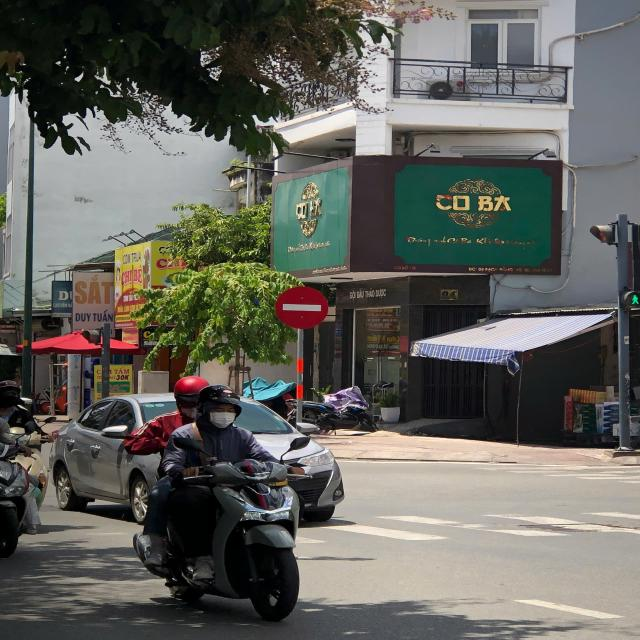Bien bao cam di nguoc chieu: (269, 281, 336, 334)
